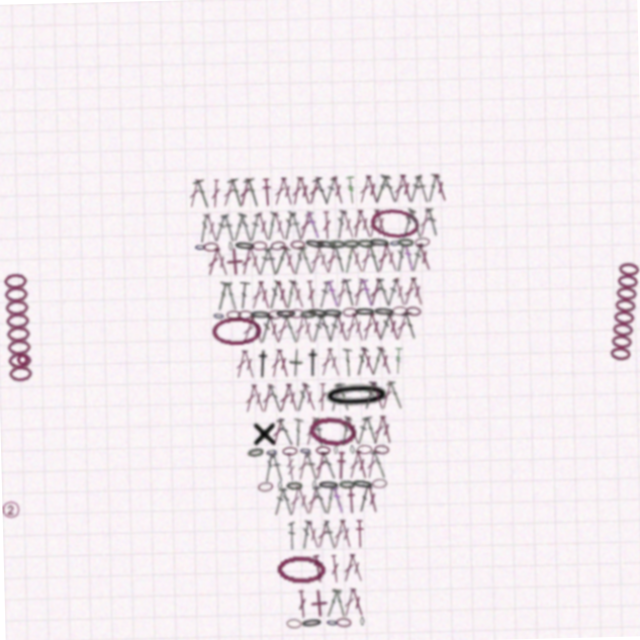chain: (318, 381, 388, 410), (369, 209, 420, 242), (303, 413, 353, 446), (269, 551, 318, 581), (211, 314, 260, 342), (304, 238, 327, 251), (345, 477, 368, 489), (315, 239, 338, 251), (305, 307, 328, 318), (235, 239, 257, 250), (368, 239, 390, 250), (292, 614, 314, 624), (312, 478, 334, 488), (249, 308, 271, 318), (320, 308, 342, 318), (371, 308, 393, 318), (274, 308, 296, 317), (352, 308, 374, 317), (243, 443, 260, 454), (299, 308, 315, 318), (403, 308, 419, 318), (271, 240, 287, 250), (278, 614, 293, 624), (327, 614, 342, 624), (253, 478, 268, 488), (369, 444, 384, 454), (267, 308, 282, 318), (414, 240, 429, 250), (281, 478, 297, 487), (333, 478, 349, 487), (329, 240, 345, 249), (343, 240, 359, 249), (357, 240, 373, 249), (397, 240, 413, 249), (366, 478, 381, 487), (278, 444, 293, 453), (311, 444, 326, 453), (352, 444, 367, 453), (226, 308, 241, 317), (237, 308, 252, 317), (288, 308, 303, 317), (341, 308, 356, 317), (390, 308, 405, 317), (205, 240, 220, 249), (253, 240, 268, 249), (291, 240, 306, 249), (261, 444, 274, 454), (212, 308, 225, 318), (317, 614, 329, 624), (389, 240, 401, 250), (295, 444, 307, 453), (196, 240, 208, 249), (345, 444, 350, 453), (351, 614, 355, 623), (273, 478, 277, 487), (307, 478, 311, 487), (329, 444, 333, 453), (230, 240, 234, 249)
double: (271, 245, 292, 275), (372, 177, 393, 207), (196, 177, 216, 207), (314, 177, 334, 207), (230, 177, 249, 207), (246, 177, 265, 207), (314, 585, 333, 614), (214, 279, 232, 309), (365, 245, 383, 275), (349, 483, 367, 512), (382, 381, 400, 410), (365, 347, 383, 376), (374, 313, 392, 342), (399, 313, 417, 342), (231, 211, 249, 240), (365, 449, 382, 478), (273, 415, 290, 444), (340, 415, 357, 444), (290, 381, 307, 410), (298, 381, 315, 410), (323, 347, 340, 376), (357, 347, 374, 376), (239, 313, 256, 342), (273, 313, 290, 342), (281, 313, 298, 342), (391, 313, 408, 342), (265, 279, 282, 308), (289, 279, 306, 308), (340, 279, 357, 308), (399, 279, 416, 308), (206, 245, 223, 274), (298, 245, 315, 274), (315, 245, 332, 274), (331, 245, 348, 274), (340, 245, 357, 274), (348, 245, 365, 274), (382, 245, 399, 274), (415, 245, 432, 274), (298, 211, 315, 240), (306, 211, 323, 240), (357, 211, 374, 240), (399, 211, 416, 240), (223, 177, 240, 206), (424, 177, 441, 206), (341, 585, 357, 614), (333, 551, 349, 580), (341, 551, 357, 580), (299, 517, 315, 546), (308, 517, 324, 546), (324, 517, 340, 546), (290, 483, 306, 512), (299, 483, 315, 512), (316, 483, 332, 512), (324, 483, 340, 512), (341, 449, 357, 478), (266, 415, 282, 444), (299, 415, 315, 444), (358, 415, 374, 444), (366, 415, 382, 444), (240, 381, 256, 410), (248, 381, 264, 410), (274, 381, 290, 410), (332, 381, 348, 410), (358, 381, 374, 410), (366, 381, 382, 410), (375, 381, 391, 410), (316, 347, 332, 376), (350, 347, 366, 376), (374, 347, 390, 376), (248, 313, 264, 342), (257, 313, 273, 342), (265, 313, 281, 342), (332, 313, 348, 342), (341, 313, 357, 342), (358, 313, 374, 342), (366, 313, 382, 342), (383, 313, 399, 342), (223, 279, 239, 308), (249, 279, 265, 308), (274, 279, 290, 308), (282, 279, 298, 308), (324, 279, 340, 308), (358, 279, 374, 308), (366, 279, 382, 308), (215, 245, 231, 274), (248, 245, 264, 274), (282, 245, 298, 274), (308, 245, 324, 274), (358, 245, 374, 274), (206, 211, 222, 240), (257, 211, 273, 240), (265, 211, 281, 240), (273, 211, 289, 240), (341, 211, 357, 240), (274, 177, 290, 206), (299, 177, 315, 206), (308, 177, 324, 206), (358, 177, 374, 206), (366, 177, 382, 206), (392, 177, 408, 206), (433, 177, 449, 206), (324, 585, 339, 614), (333, 585, 348, 614), (332, 517, 347, 546), (282, 483, 297, 512), (307, 483, 322, 512), (291, 449, 306, 478), (308, 449, 323, 478), (316, 449, 331, 478), (349, 449, 364, 478), (333, 415, 348, 444), (374, 415, 389, 444), (257, 381, 272, 410), (282, 381, 297, 410), (232, 347, 247, 376), (240, 347, 255, 376), (274, 347, 289, 376), (291, 313, 306, 342), (299, 313, 314, 342), (349, 313, 364, 342), (257, 279, 272, 308), (333, 279, 348, 308), (350, 279, 365, 308), (391, 279, 406, 308), (408, 279, 423, 308), (240, 245, 255, 274), (324, 245, 339, 274), (375, 245, 390, 274), (392, 245, 407, 274), (282, 211, 297, 240), (374, 211, 389, 240), (417, 211, 432, 240), (425, 211, 440, 240), (190, 177, 205, 206), (240, 177, 255, 206), (282, 177, 297, 206), (332, 177, 347, 206), (383, 177, 398, 206), (400, 177, 415, 206), (316, 518, 331, 546), (265, 382, 280, 410), (215, 212, 230, 240), (416, 178, 431, 206), (292, 517, 306, 546), (359, 483, 373, 512), (359, 449, 373, 478), (267, 347, 281, 376), (317, 313, 331, 342), (237, 279, 251, 308), (375, 279, 389, 308), (401, 245, 415, 274), (334, 211, 348, 240), (351, 211, 365, 240), (367, 211, 381, 240), (292, 177, 306, 206), (267, 484, 281, 512), (266, 450, 280, 478), (300, 450, 314, 478), (351, 416, 365, 444), (309, 314, 323, 342), (325, 314, 339, 342), (384, 280, 398, 308), (258, 246, 272, 274), (292, 246, 306, 274), (409, 246, 423, 274), (224, 212, 238, 240), (291, 212, 305, 240), (325, 178, 339, 206), (409, 178, 423, 206), (275, 484, 288, 512), (258, 450, 271, 478), (317, 280, 330, 308), (266, 246, 279, 274), (241, 212, 254, 240), (250, 212, 263, 240), (409, 212, 422, 240), (288, 416, 300, 444), (309, 416, 321, 444), (326, 382, 338, 410), (200, 212, 212, 240), (322, 552, 333, 580), (305, 280, 316, 308), (213, 178, 224, 206), (289, 586, 299, 614), (314, 382, 324, 410), (340, 348, 350, 376), (323, 212, 332, 240), (282, 518, 289, 546)
enseble_chain: (602, 269, 638, 370), (5, 266, 34, 374)
half_double: (252, 347, 270, 376), (302, 347, 319, 376), (304, 551, 317, 580), (330, 450, 342, 478), (263, 178, 275, 206), (347, 518, 358, 546), (340, 484, 350, 512)
noise: (0, 489, 19, 510), (17, 345, 30, 358)
single: (296, 585, 325, 614), (221, 245, 250, 274), (248, 416, 274, 444), (286, 347, 302, 376)
treble: (280, 450, 292, 478), (347, 178, 358, 206), (390, 348, 400, 376)
